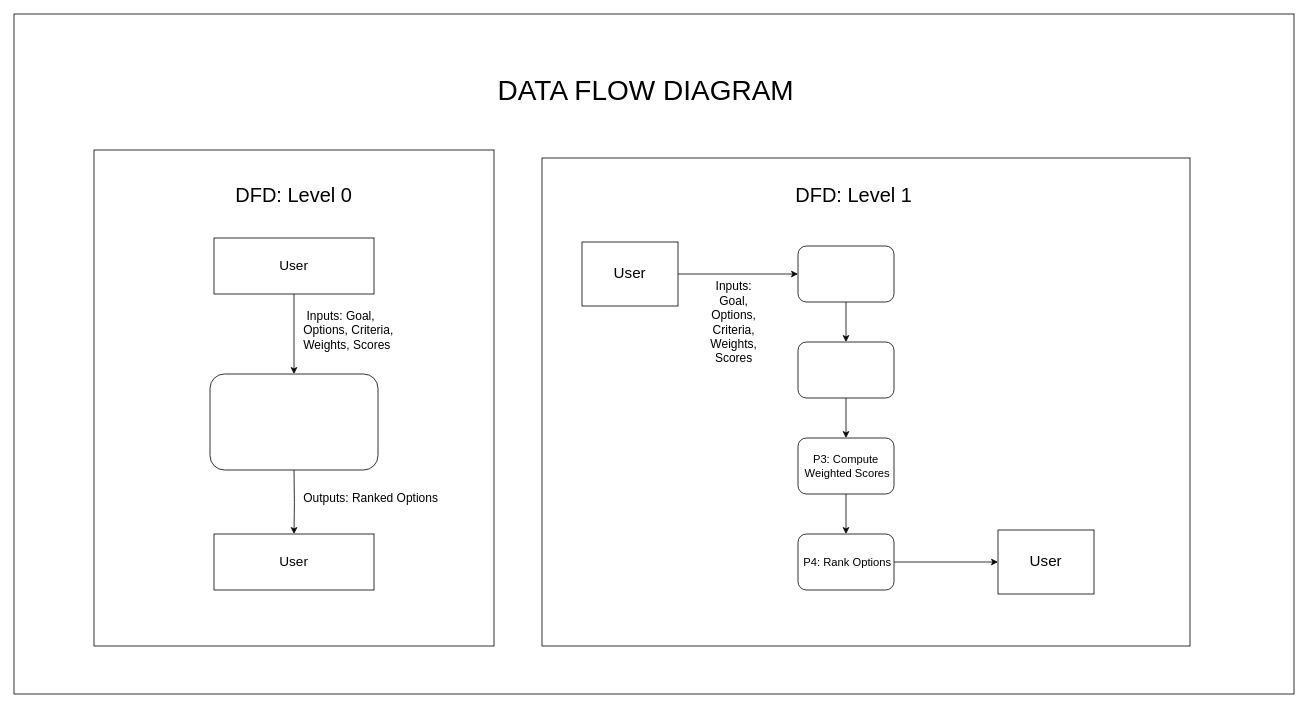
This 1308x708 diagram has some shape labels left out. Here are the shapes that lost their labels. From the top down, the centre of each, then its label:
At point (845, 273): "P1: Input Collection".
At point (845, 369): "P2: Normalize Data".
At point (293, 421): "Decision Companion System (Normalize, WSM, Rank)".
